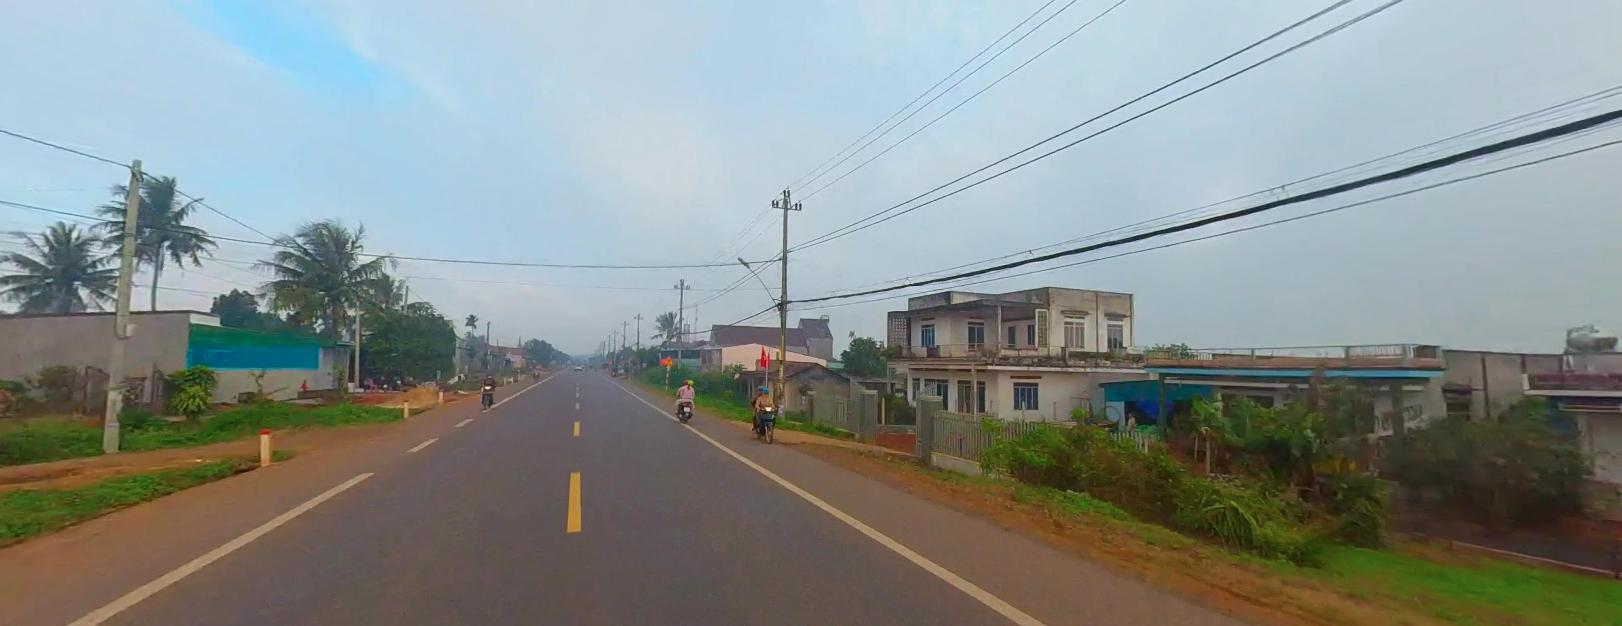Nguy hiem: (662, 354, 672, 363)
